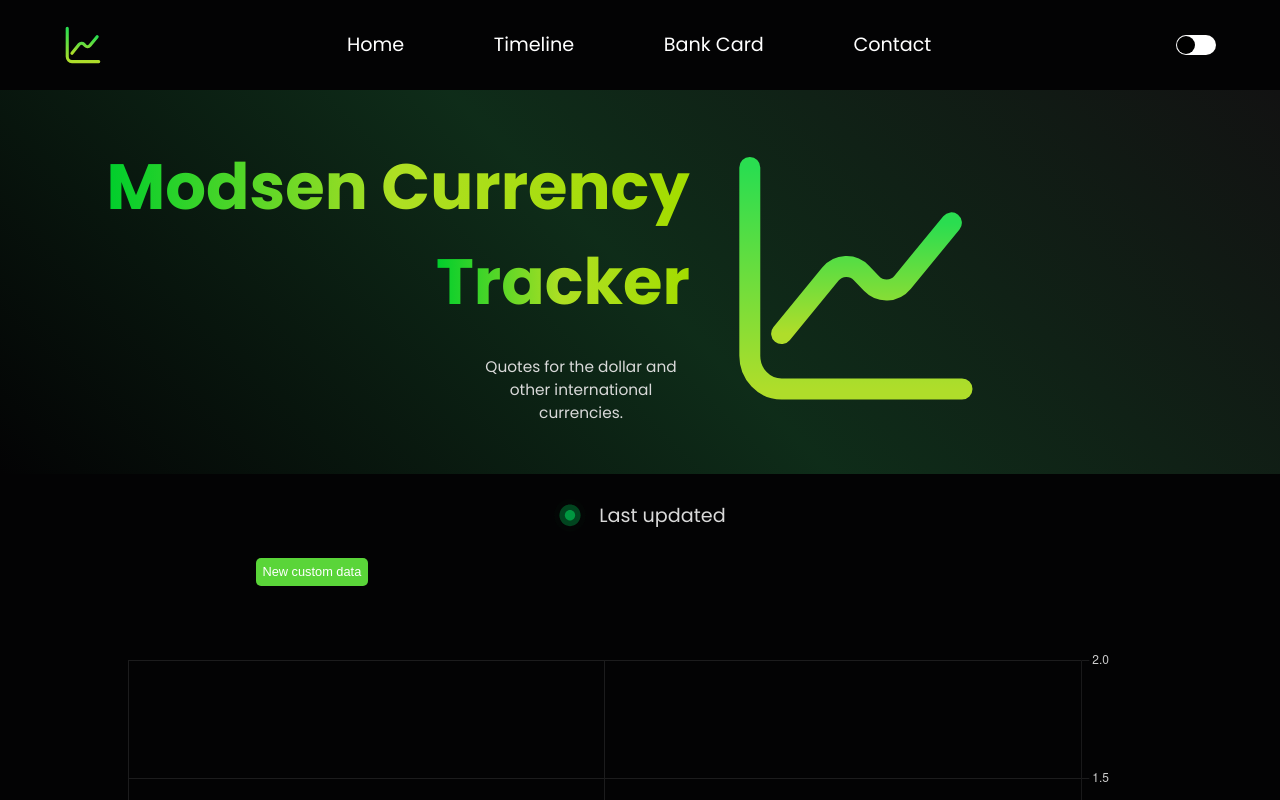
Test: Timeline Page Tests › Should delete new field correctly
Click the button "New custom data".
click(312, 572)  # box [256,558,368,586]
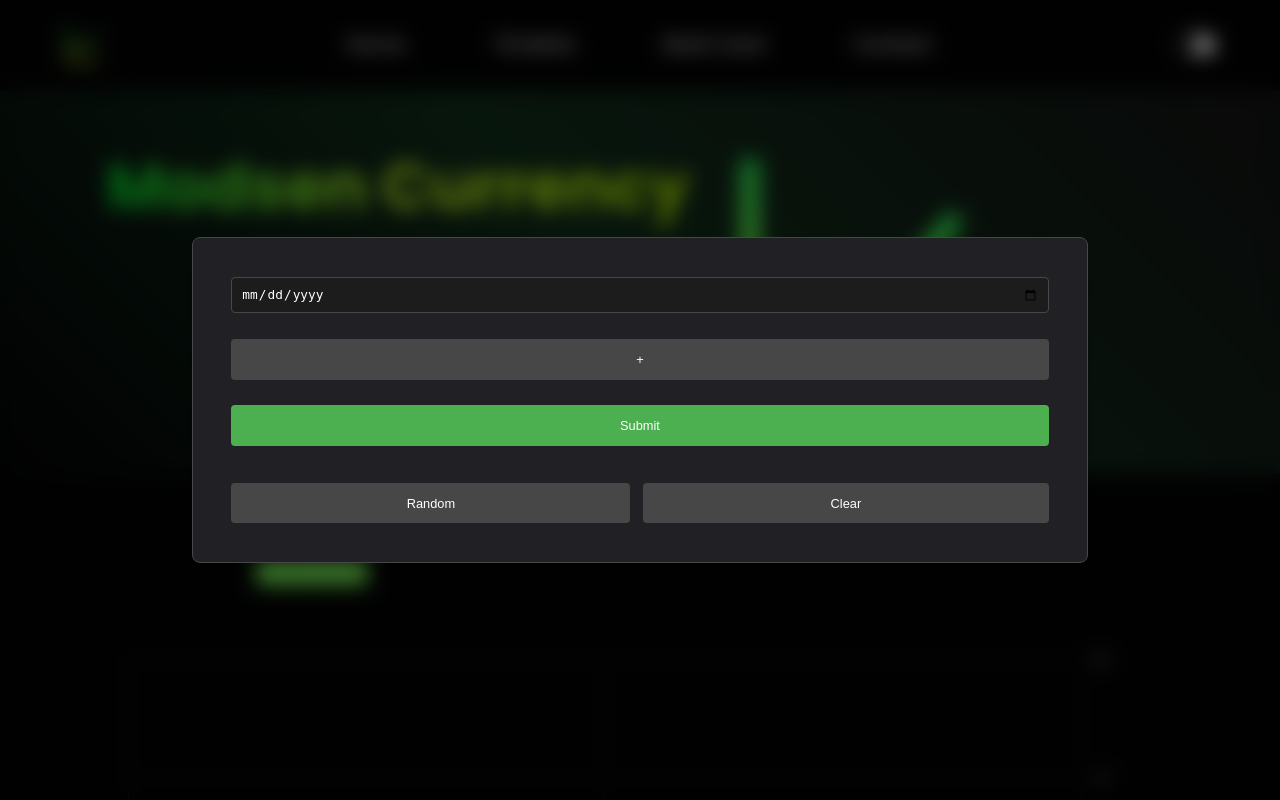
Click the button with test id "add-button".
click(640, 360)  # box [231,339,1048,380]
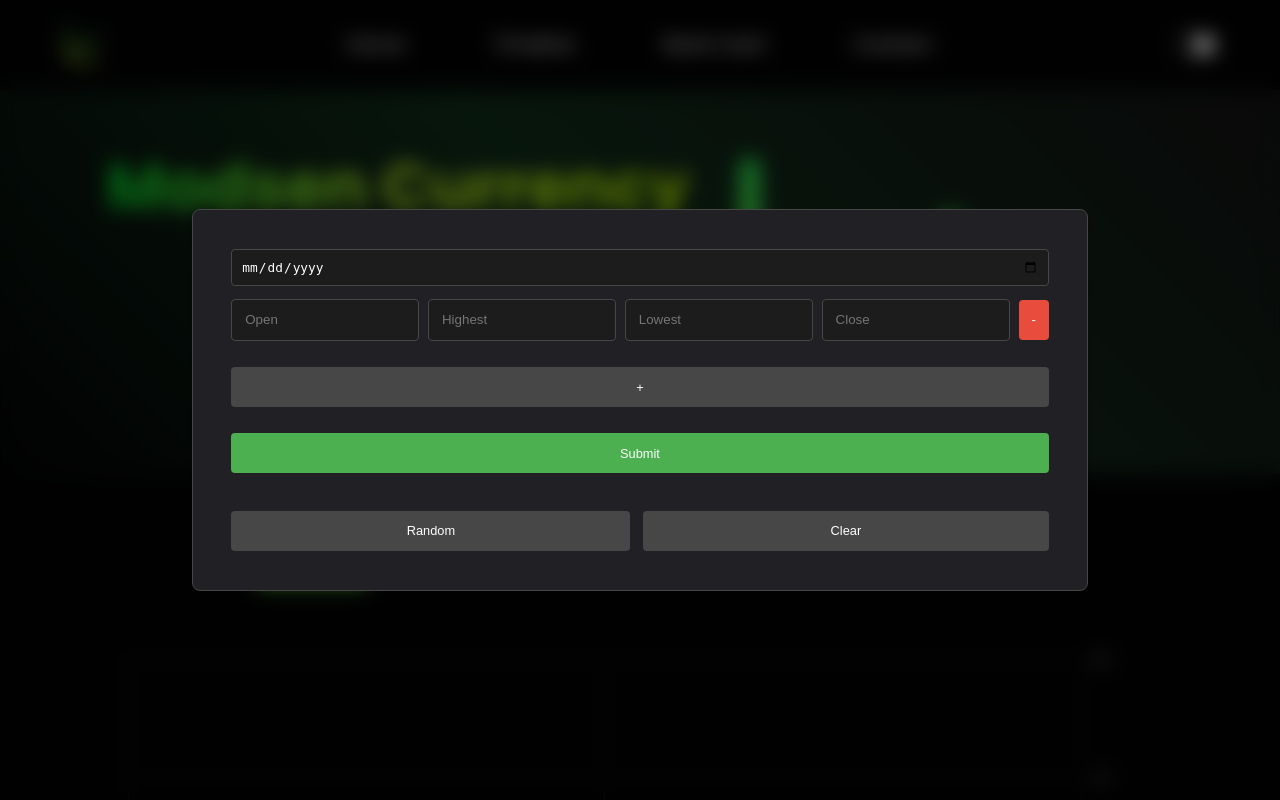
Click the button with test id "remove-button".
click(1034, 321)  # box [1019,300,1049,341]
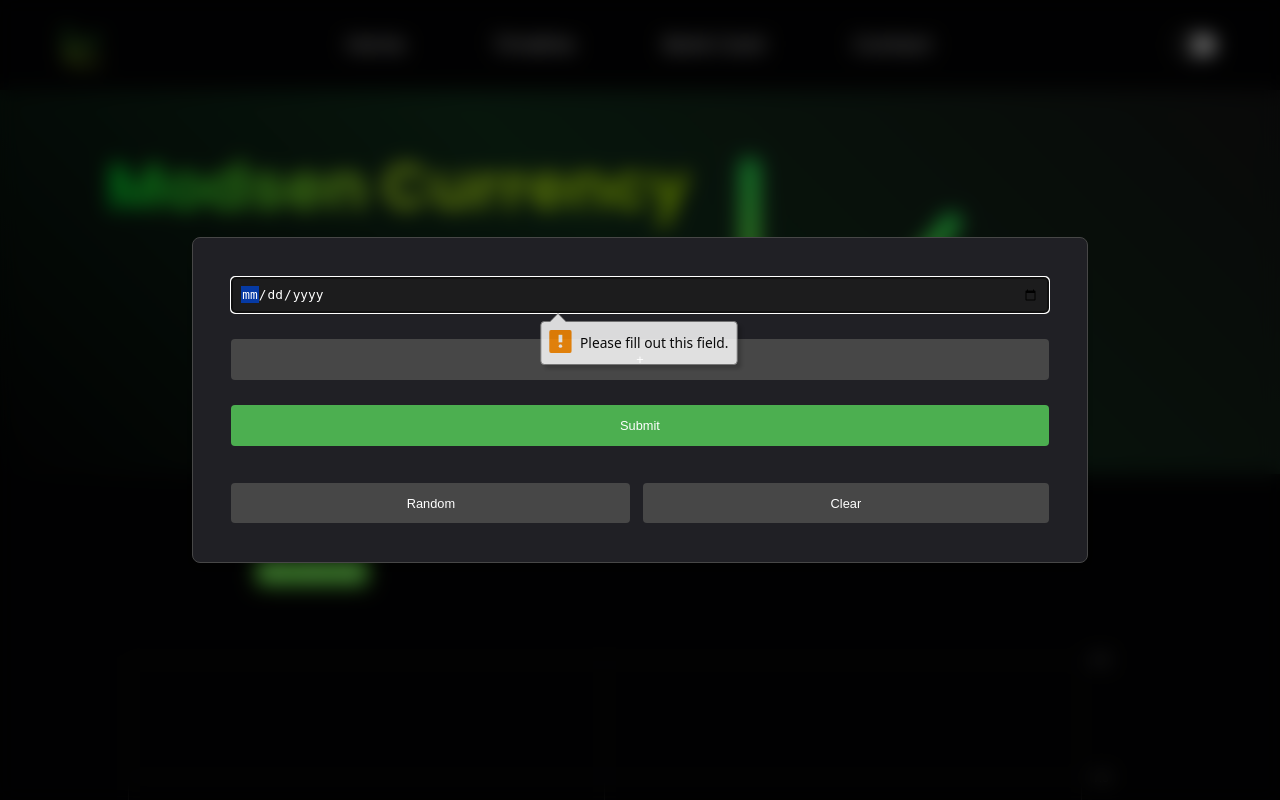
Expected: no elements with test id "field-container" are shown
